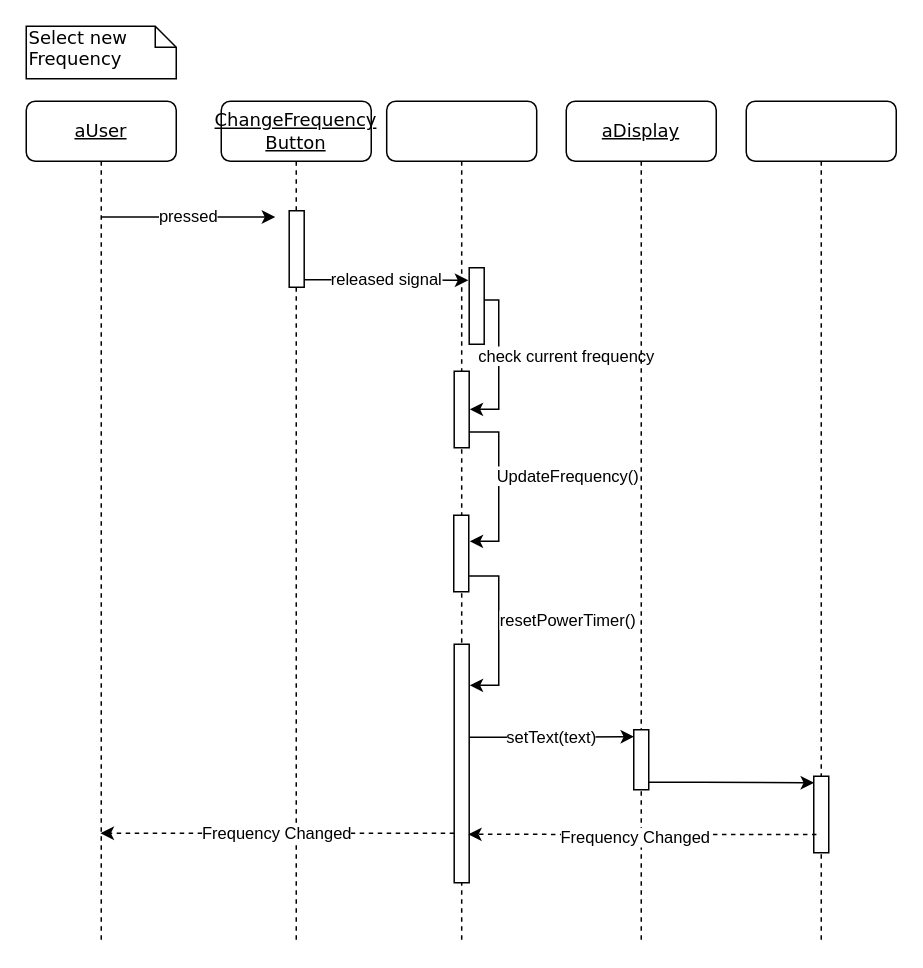
This 923x968 diagram has some shape labels left out. Here are the shapes that lost their labels. From the top down, the box of each, then its label:
(385, 100, 537, 941): : MainWindow <<UI>>
(745, 100, 896, 941): aQLabel
